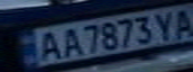3: (133, 14, 157, 44)
7: (78, 21, 103, 54), (115, 16, 136, 47)
8: (100, 19, 121, 52)
A: (30, 29, 63, 62), (54, 25, 84, 57), (169, 6, 193, 38)
Y: (151, 8, 181, 39)
